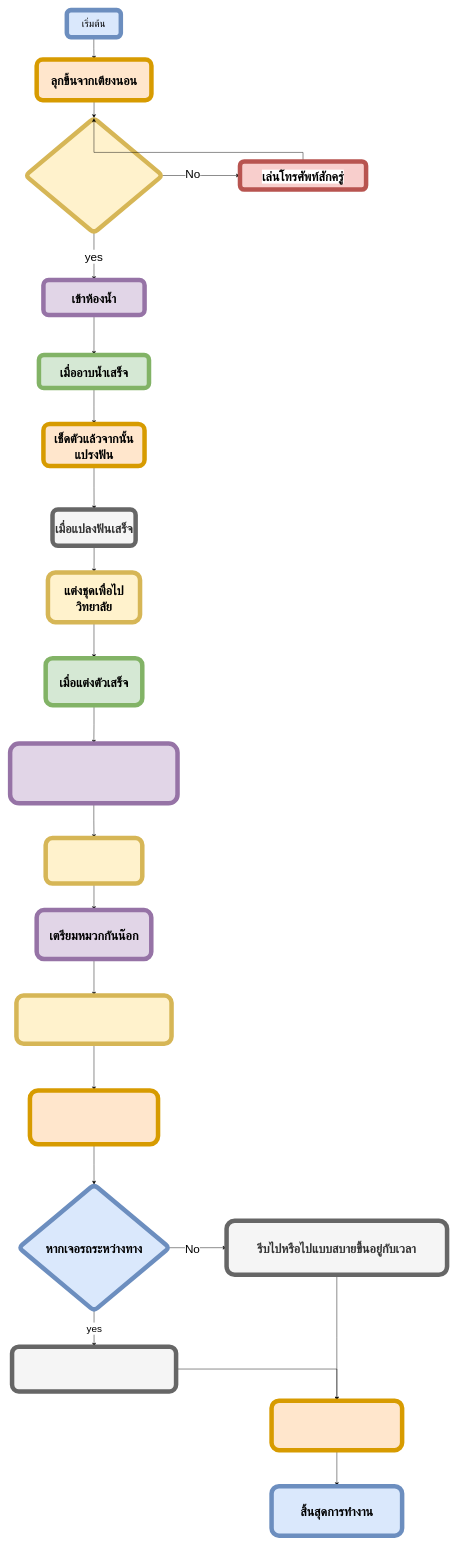
Image size: 457x1545. Some labels were removed from this diagram. The shapes that lost their labels are listed below. From the top down, each one's centre as x and y in pixels, then its label:
the point at 93,175: ถ้ามีคนอยู่ห้องน้ำ
the point at 94,773: ไปที่หน้าบ้านเพื่อเตรียมของไปที่วิทยาลัย
the point at 93,861: รับเงินจากแม่
the point at 94,1019: จากนั้นขี่รถมอเตอร์ไซด์
the point at 93,1117: เดินทางไปวิทยาลัย
the point at 94,1368: ให้เลือกที่จะชะล่อหรือหาทางที่สามารถไปถึงเป้าหมายได้
the point at 336,1425: ถึงวิทยาลัยแล้วครับ
